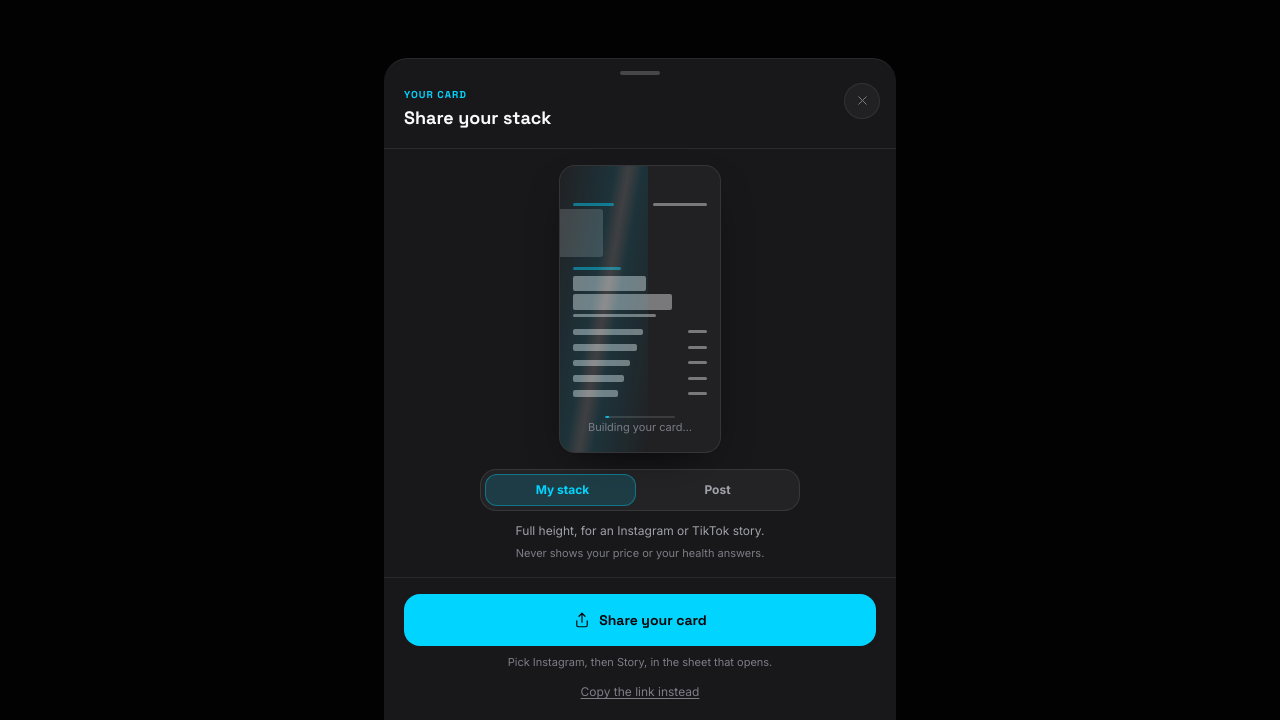
the ladder › goes to the OS sheet when the browser can take a file
Click the button "Share your card" at (640, 620), box [404,594,876,646]
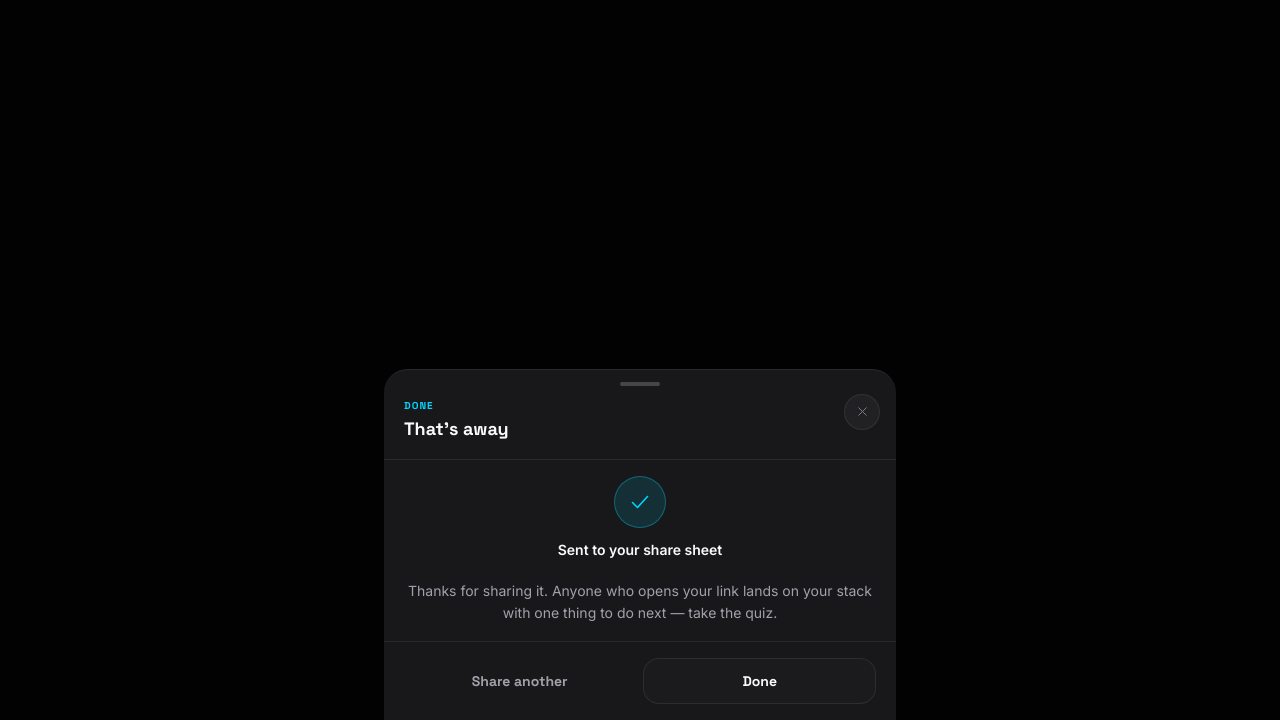
Expected: the text "Sent to your share sheet" is shown, [558,540,722,560]
